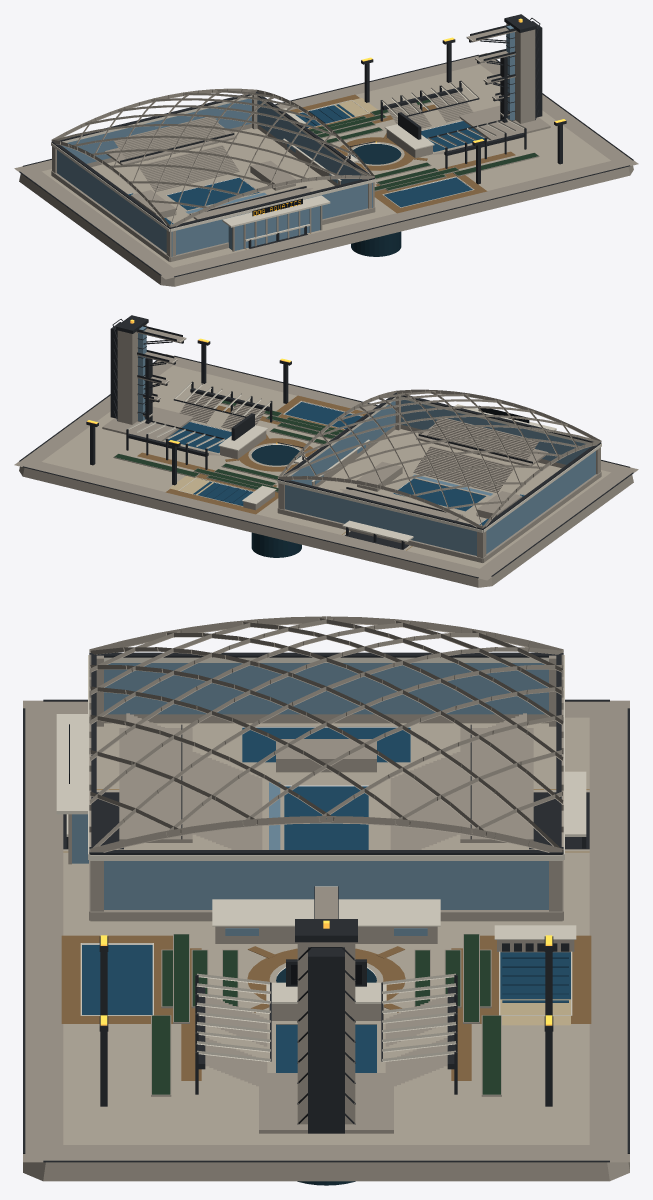
The model's file is dog-aquatics-base.glb.
The picture shows the model from 3 angles, top to bottom: view 1: azimuth 30°, elevation 25°; view 2: azimuth 150°, elevation 25°; view 3: azimuth 270°, elevation 25°; orthographic projection. The views are drawn at different scales.
Parts seen in each view (by area): view 1: AQUATICS_BASE; view 2: AQUATICS_BASE; view 3: AQUATICS_BASE.
Part boxes in pixels (x1,y1,x2,y2): AQUATICS_BASE: [14, 14, 638, 286]; AQUATICS_BASE: [14, 315, 638, 587]; AQUATICS_BASE: [23, 616, 629, 1185].
Size of the model in its own units: 324 by 125 by 180.
